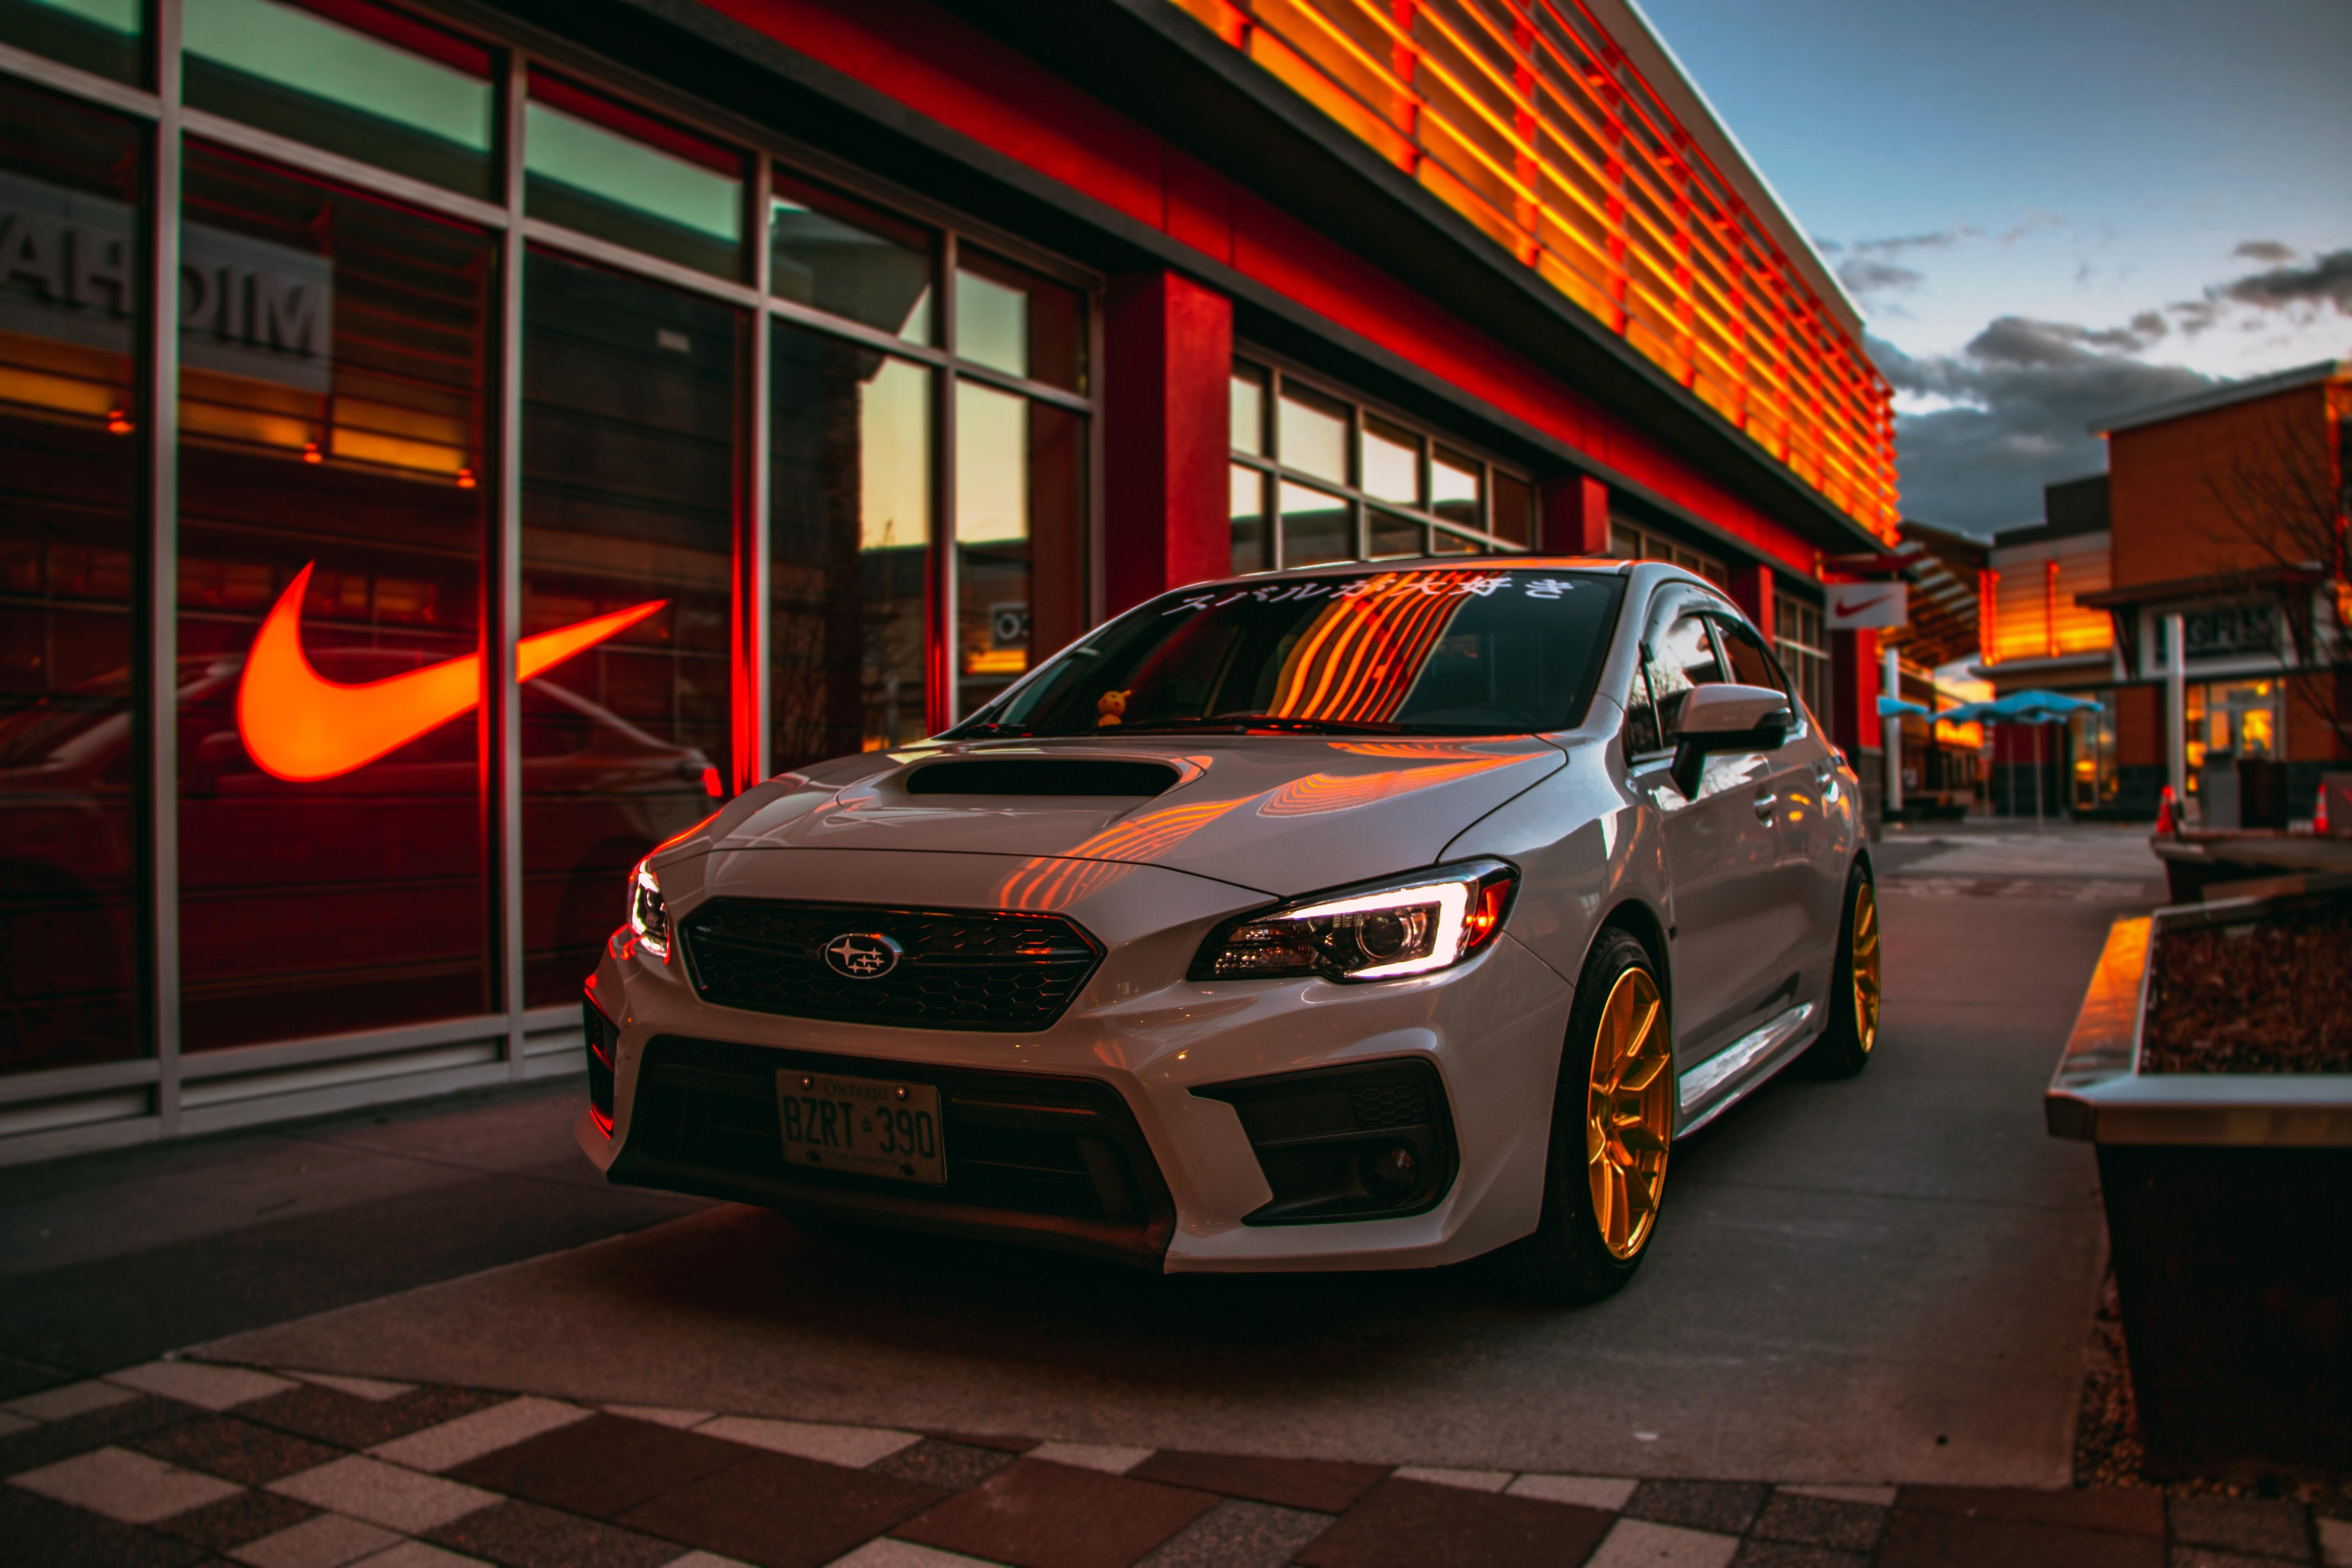subaru: (791, 906, 938, 1012)
